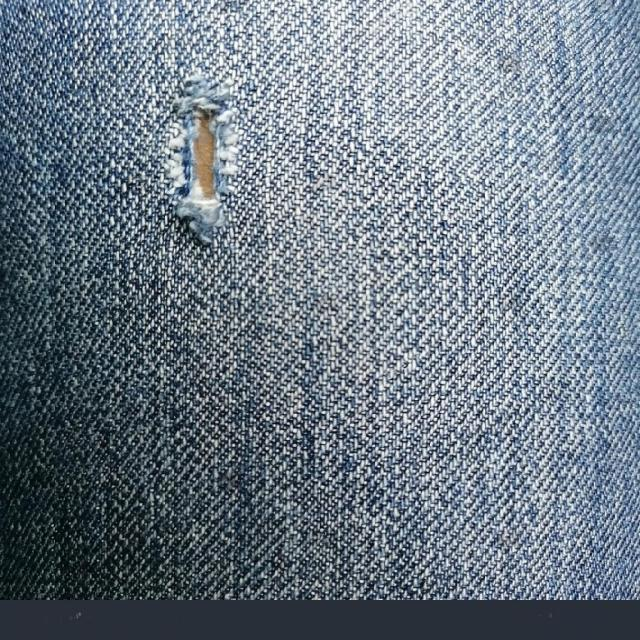Hole: (165, 73, 237, 243)
